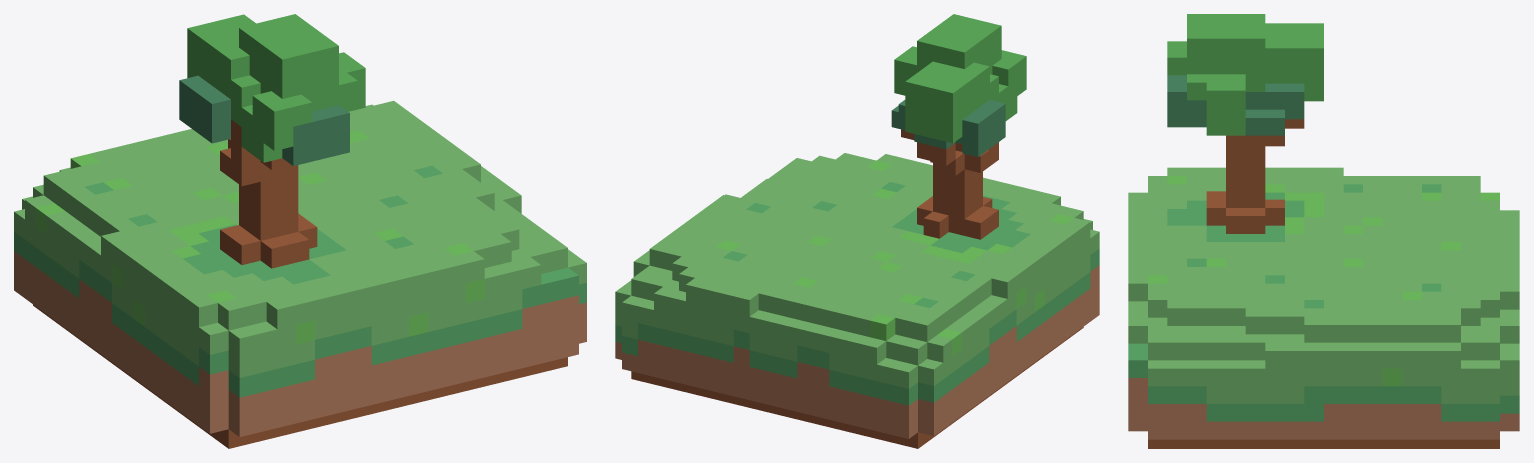
Rendered from grass.glb.
The picture shows the model from 3 angles, left to right: view 1: azimuth 30°, elevation 25°; view 2: azimuth 150°, elevation 25°; view 3: azimuth 270°, elevation 25°; orthographic projection. The views are drawn at different scales.
Parts seen in each view (by area): view 1: grass.vox; view 2: grass.vox; view 3: grass.vox.
Part boxes in pixels (x1,y1,x2,y2): grass.vox: (14,14,586,448); grass.vox: (615,14,1099,448); grass.vox: (1128,14,1519,448).
Bounding box in the file's own units: 2 × 1.8 × 2.
Materials: 1 (1 with a texture image).
